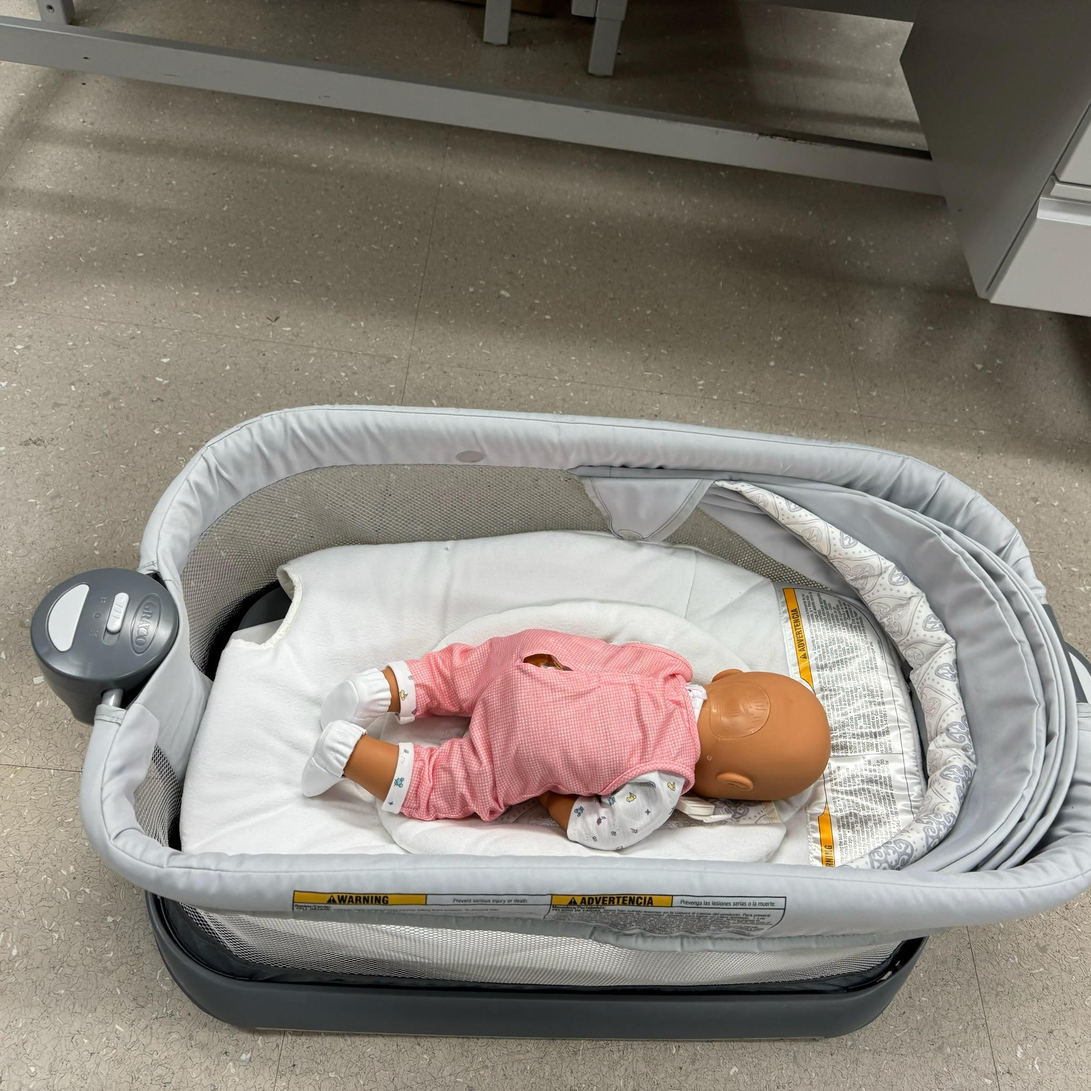baby: (296, 617, 849, 852)
